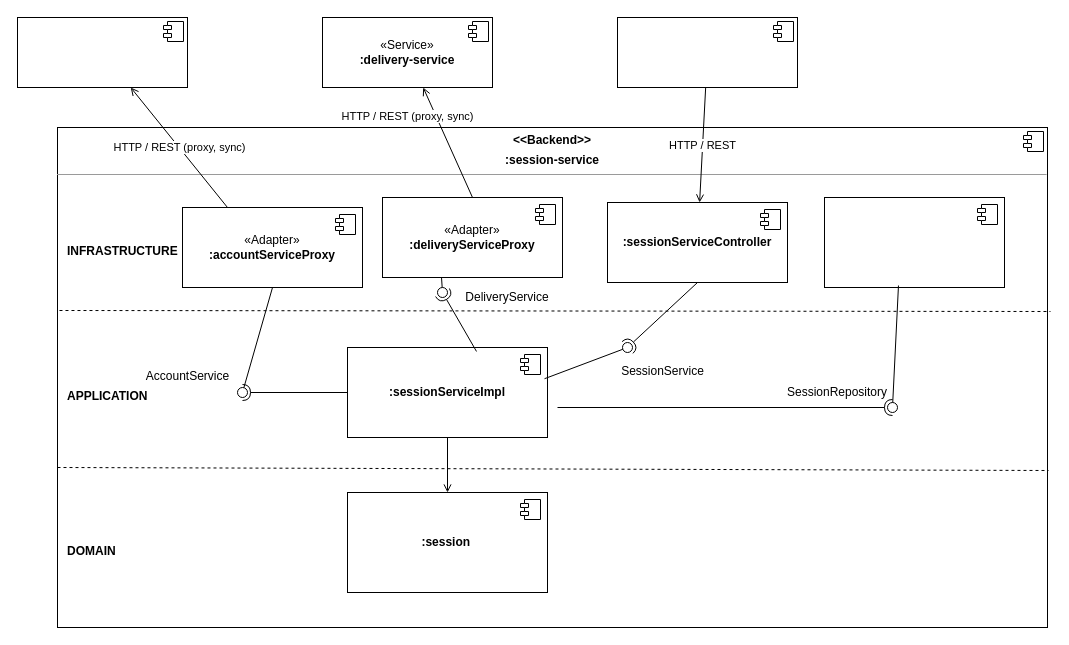
The diagram is 1069 pixels wide and 645 high, and some of its shapes have lost their labels. The shapes that lost their labels are listed below. From the top down, each one's centre as x and y in pixels, then its label:
At [102,52]: "«Service» :account-service".
At [707,52]: "«Client» :client (Sender/Admin)".
At [914,242]: "«Adapter» :inMemorySessionRepository".
